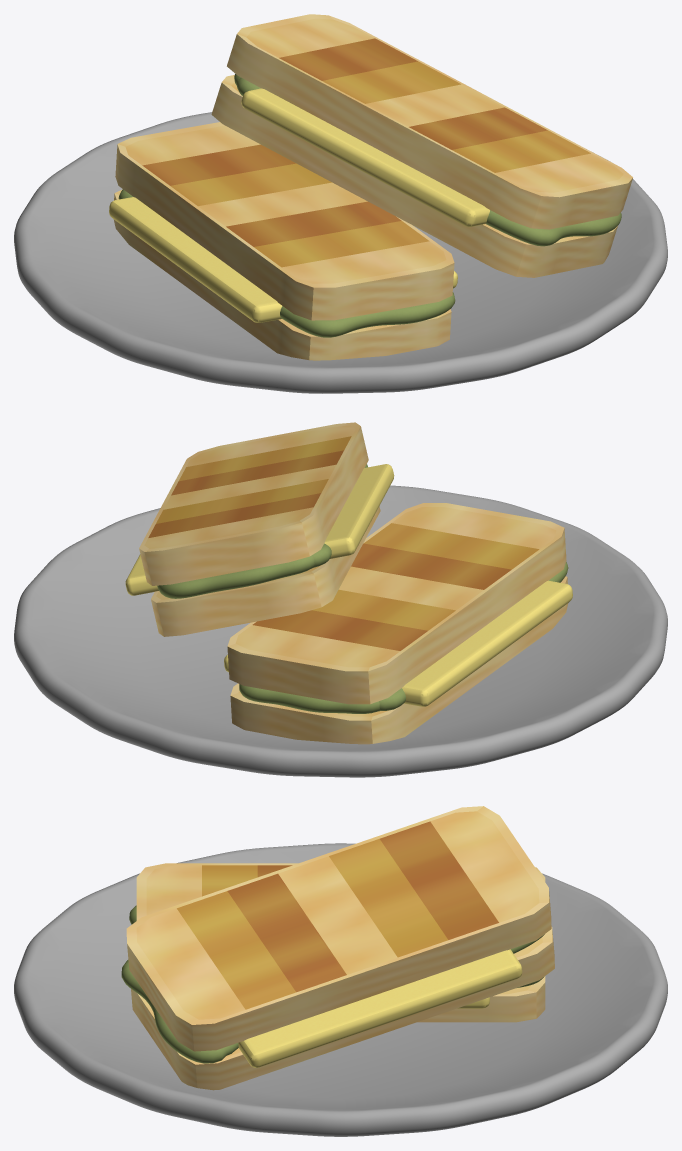
Rendered from toast set.fbx.
3 renders of one model, top to bottom at view 1: azimuth 30°, elevation 25°; view 2: azimuth 150°, elevation 25°; view 3: azimuth 270°, elevation 25°, orthographic.
Parts seen in each view (by area): view 1: kaya_toast2; view 2: kaya_toast2; view 3: kaya_toast2.
Part boxes in pixels (left/top/right/bottom): kaya_toast2: left=14, top=14, right=667, bottom=393; kaya_toast2: left=14, top=422, right=667, bottom=777; kaya_toast2: left=14, top=806, right=667, bottom=1136.
Bounding box in the file's own units: 59.88 × 21.87 × 59.88.
Materials: 7 (6 with a texture image).
